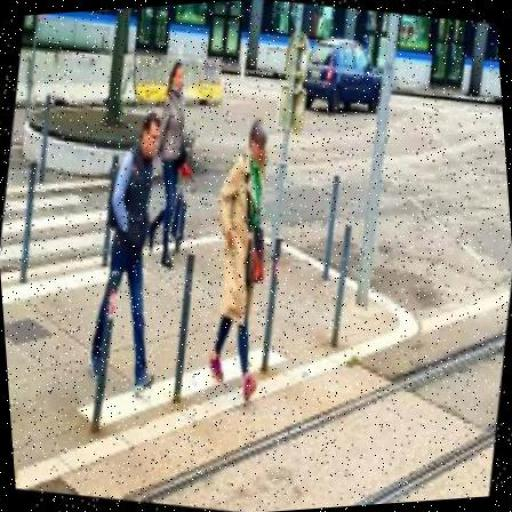person: (68, 102, 193, 391), (188, 112, 299, 408), (131, 49, 213, 272)
